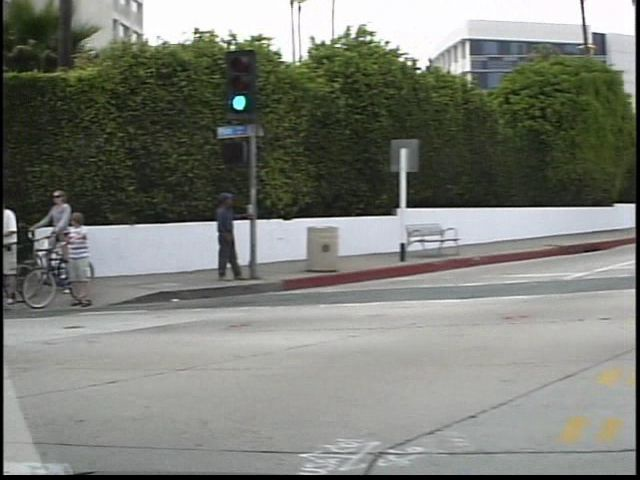person: (19, 186, 98, 309), (203, 187, 247, 292)
